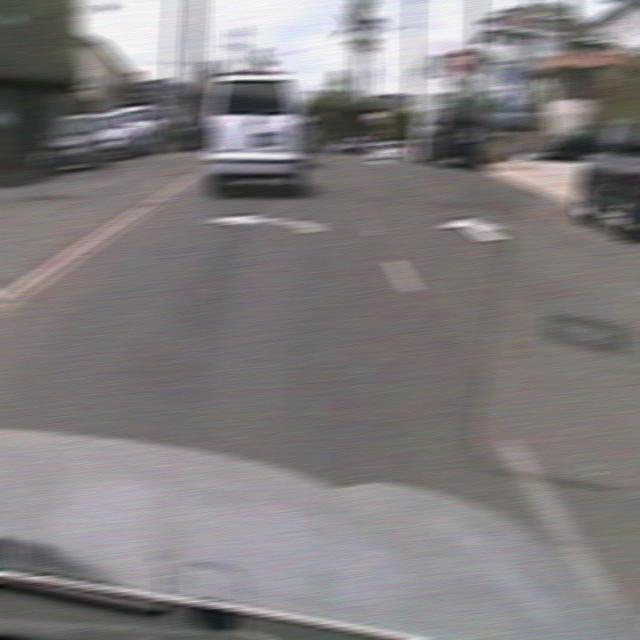stop: (448, 46, 474, 74)
